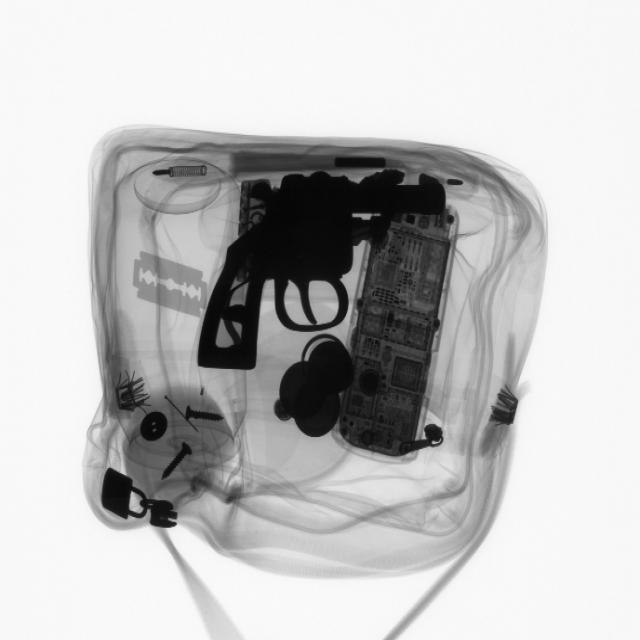BLADE: (127, 249, 209, 321)
GUN: (207, 174, 445, 383)
SCREW: (156, 437, 200, 484), (180, 400, 230, 433)
